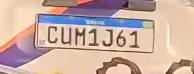Placa_mercosul_carro: (34, 13, 155, 53)
